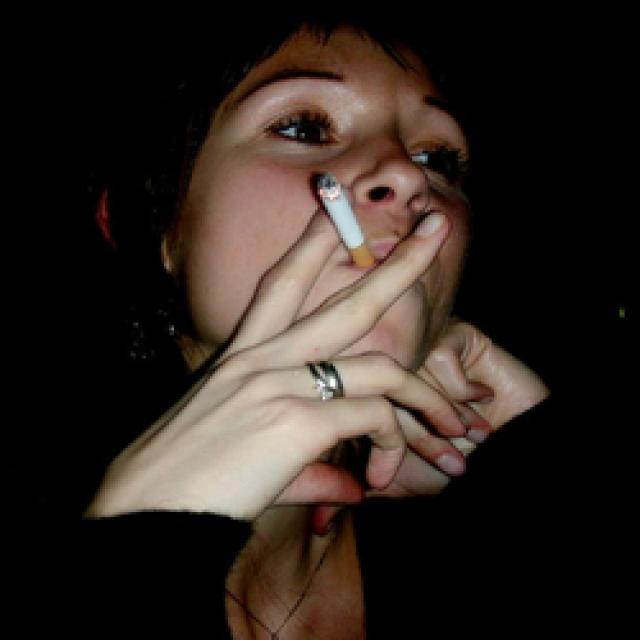Smooking: (314, 166, 378, 274)
